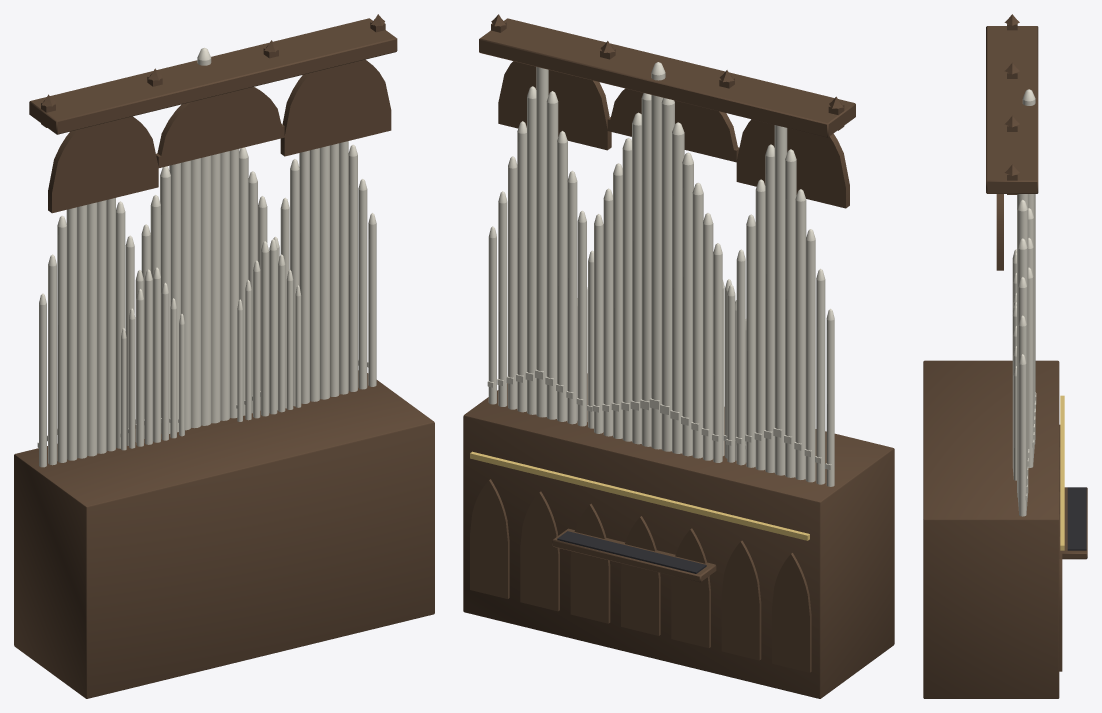
The model's file is chi_organo.fbx.
The picture shows the model from 3 angles, left to right: view 1: azimuth 30°, elevation 25°; view 2: azimuth 150°, elevation 25°; view 3: azimuth 270°, elevation 25°; orthographic projection. The views are drawn at different scales.
Visible parts, largest first — view 1: chi_organo_legno, chi_organo_canne; view 2: chi_organo_legno, chi_organo_canne, chi_organo_oro, chi_organo_scuro; view 3: chi_organo_legno, chi_organo_canne, chi_organo_scuro, chi_organo_oro.
Boxes of the visible parts, x1,y1,x2,y2 form: chi_organo_legno: (14,14,434,698); chi_organo_canne: (37,47,376,467); chi_organo_legno: (463,14,894,698); chi_organo_canne: (487,62,834,486); chi_organo_oro: (470,451,809,540); chi_organo_scuro: (557,531,706,573); chi_organo_legno: (923,14,1087,698); chi_organo_canne: (1012,89,1036,516); chi_organo_scuro: (1067,487,1086,550); chi_organo_oro: (1060,395,1064,550).
Size of the model in its own units: 3.6 by 5.6 by 1.57.
